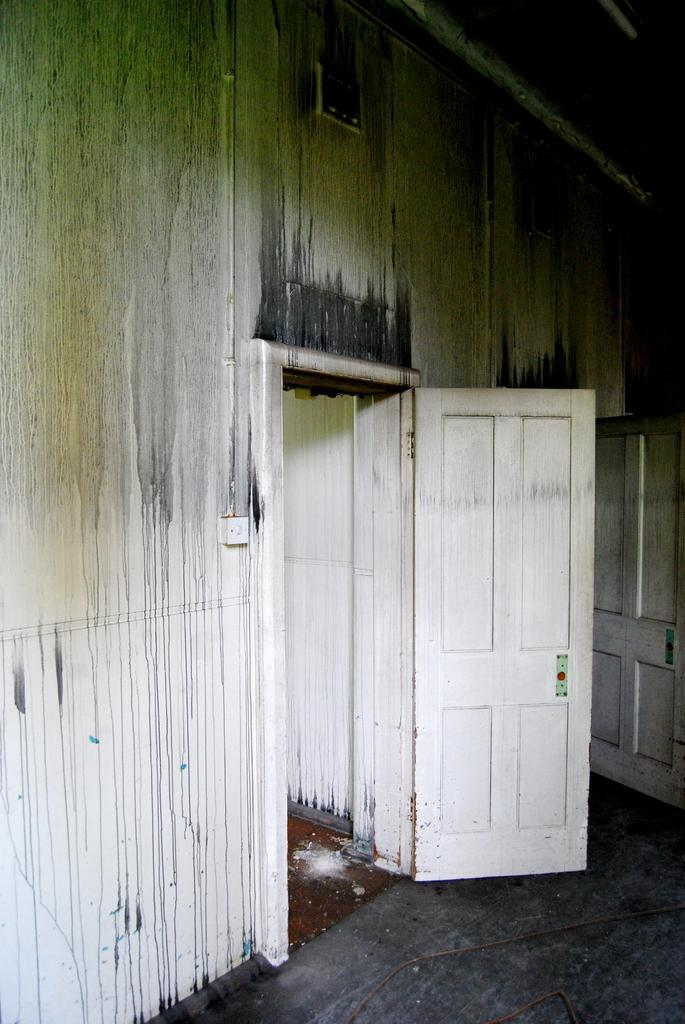door: (412, 392, 591, 874), (596, 440, 678, 782)
